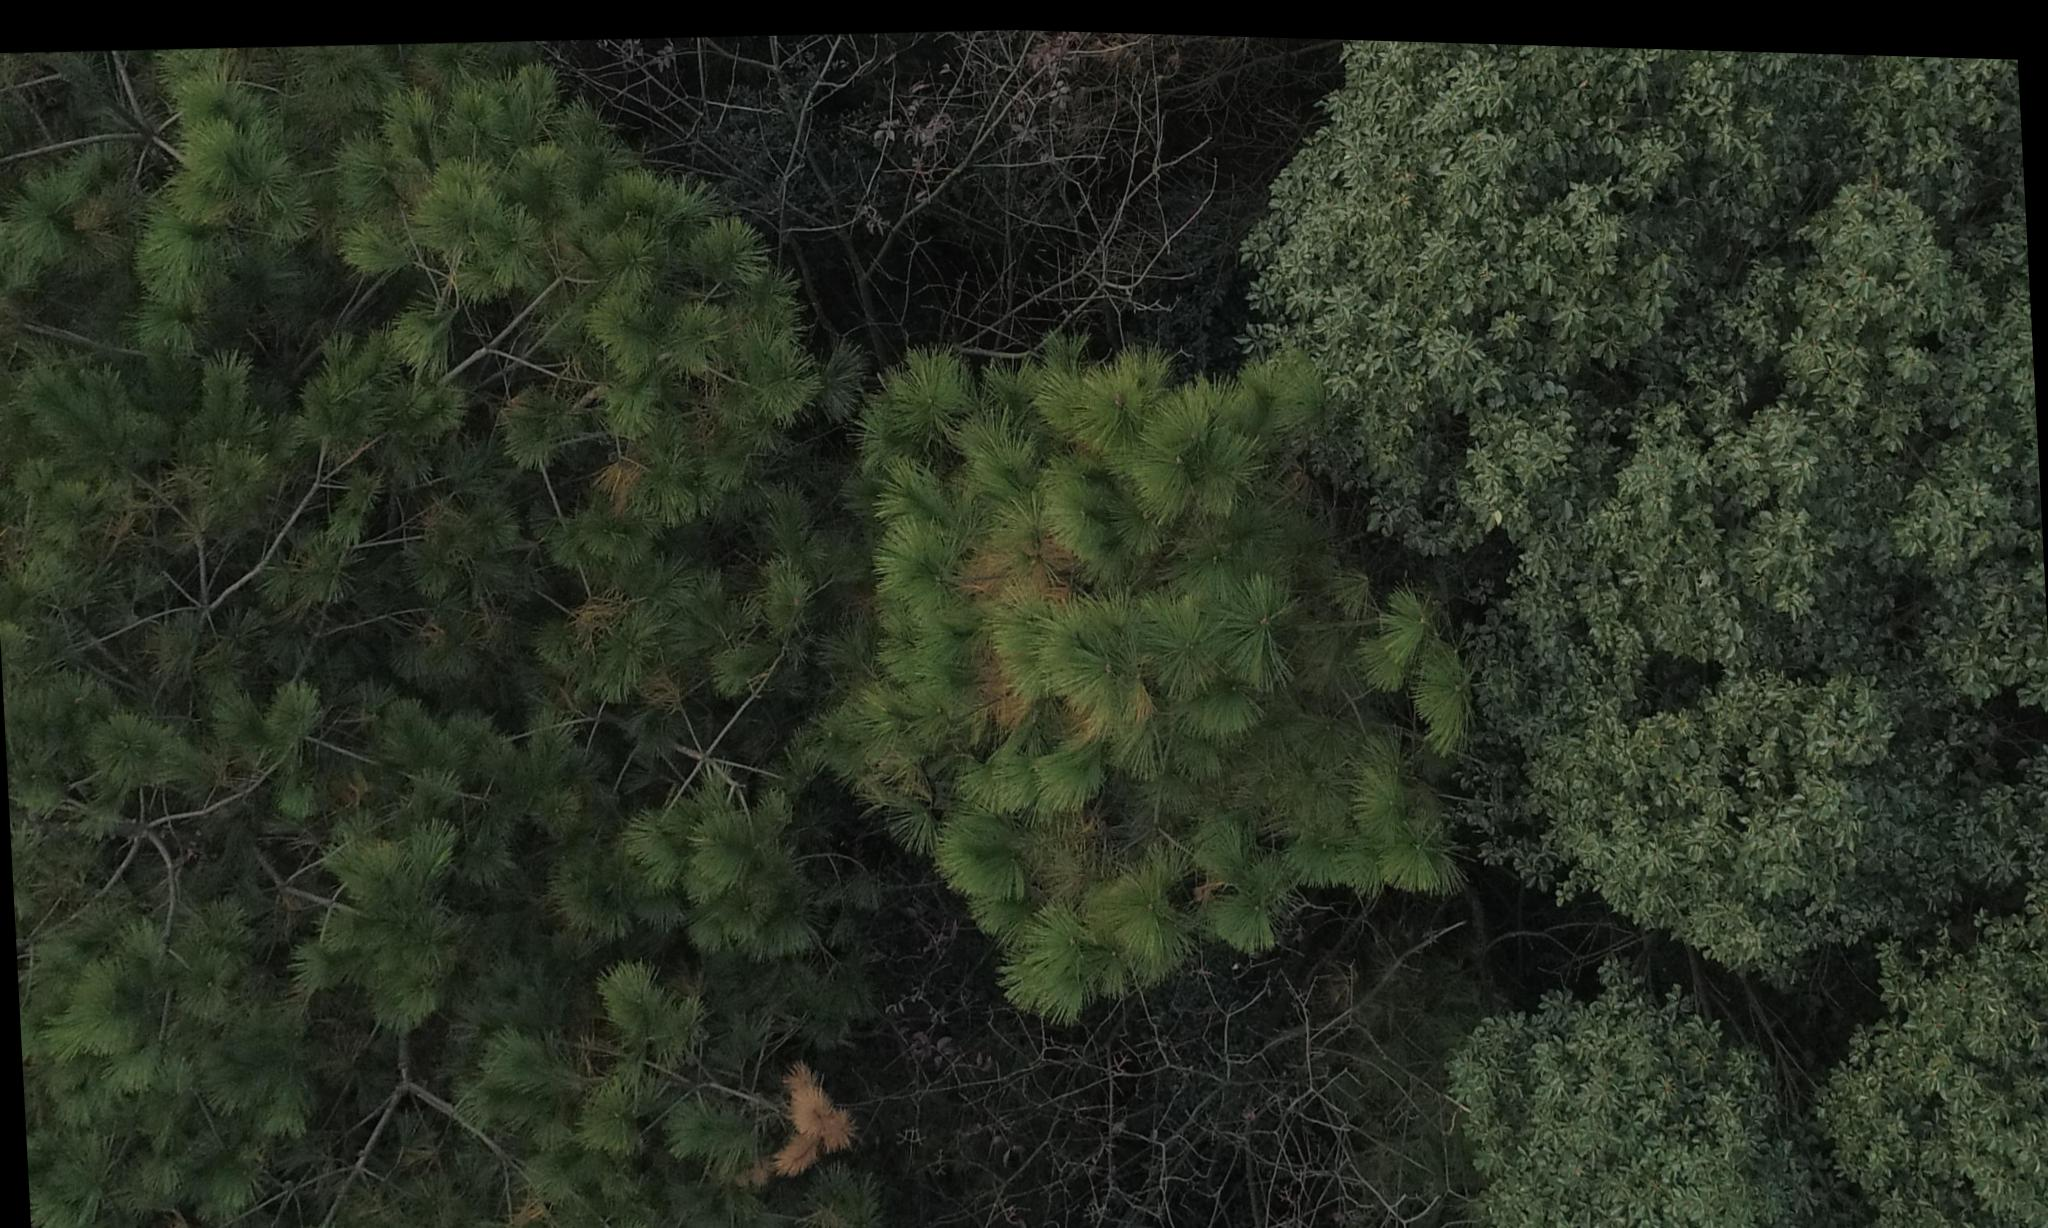light: (880, 361, 1386, 1001)
